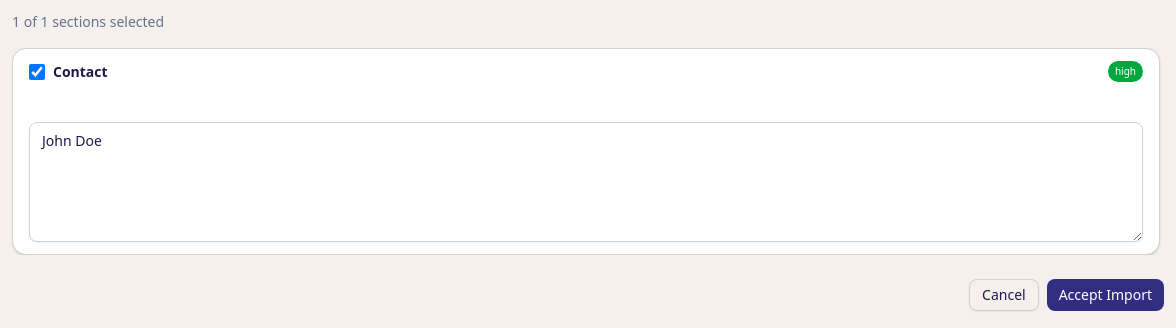
Test: ReviewPanel › disables accept button when no sections are checked
This screenshot has width=1176, height=328.
// Uncheck the only section
What coordinates should you click on to do the following:
click the checkbox
I would click on:
 (37, 72)
Its box is [29, 64, 45, 80].
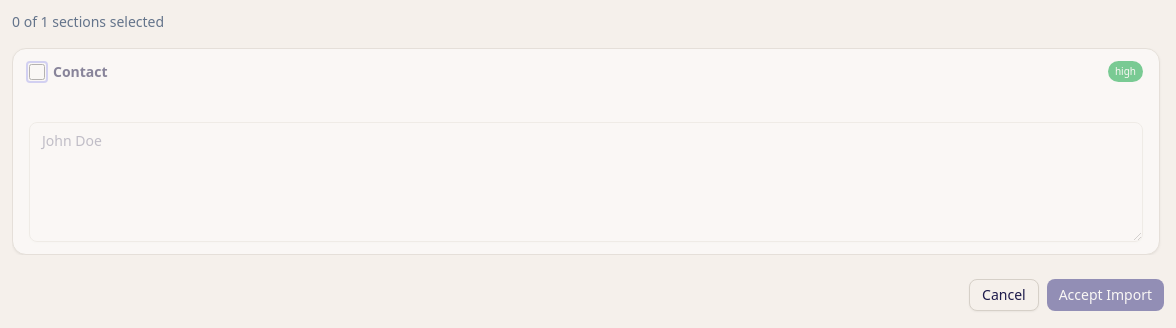
Now the button "Accept Import" is disabled, box [1047, 279, 1164, 311]
